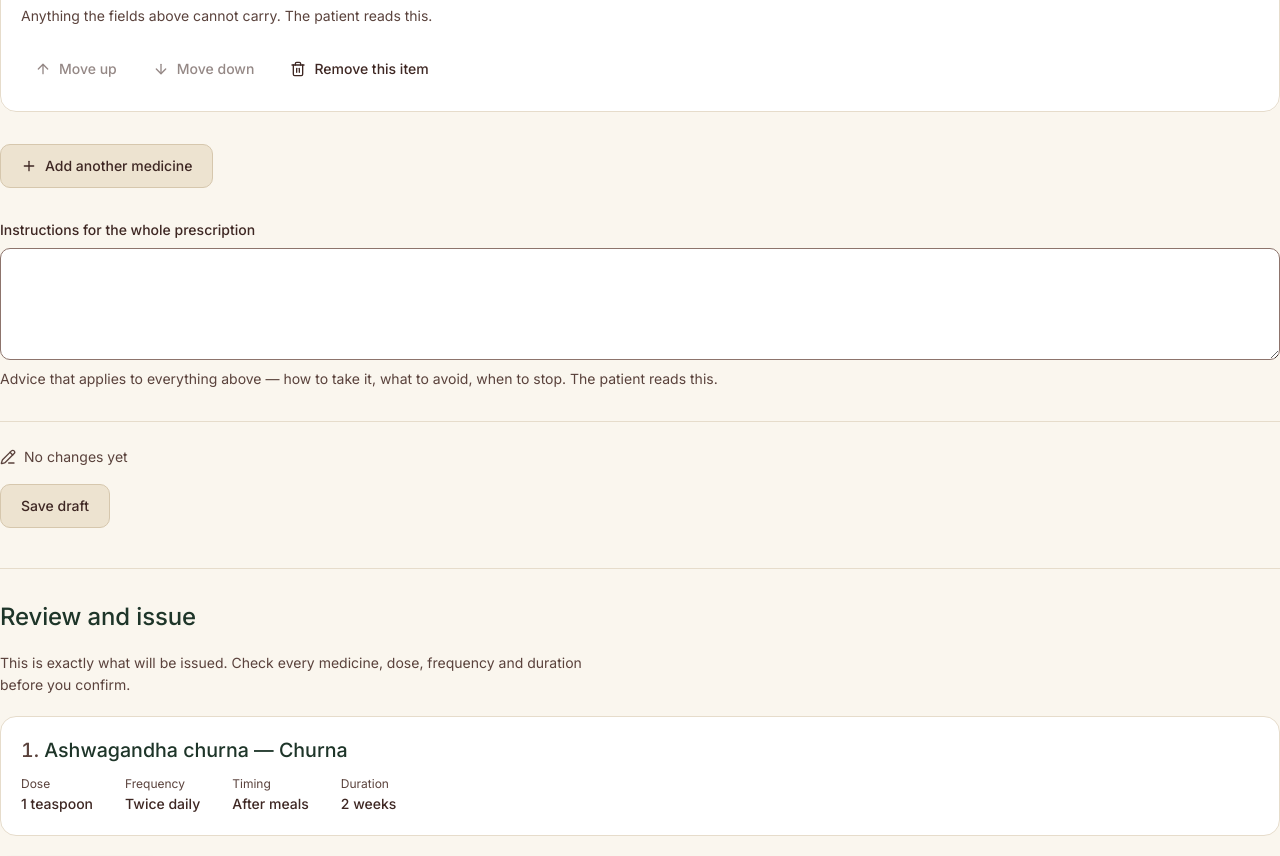
Test case: the save state › stops offering to save after a conflict, and asks for a reload
(page scrolled)
Click the button "Save draft" at point(55, 506), box [0,484,110,528]
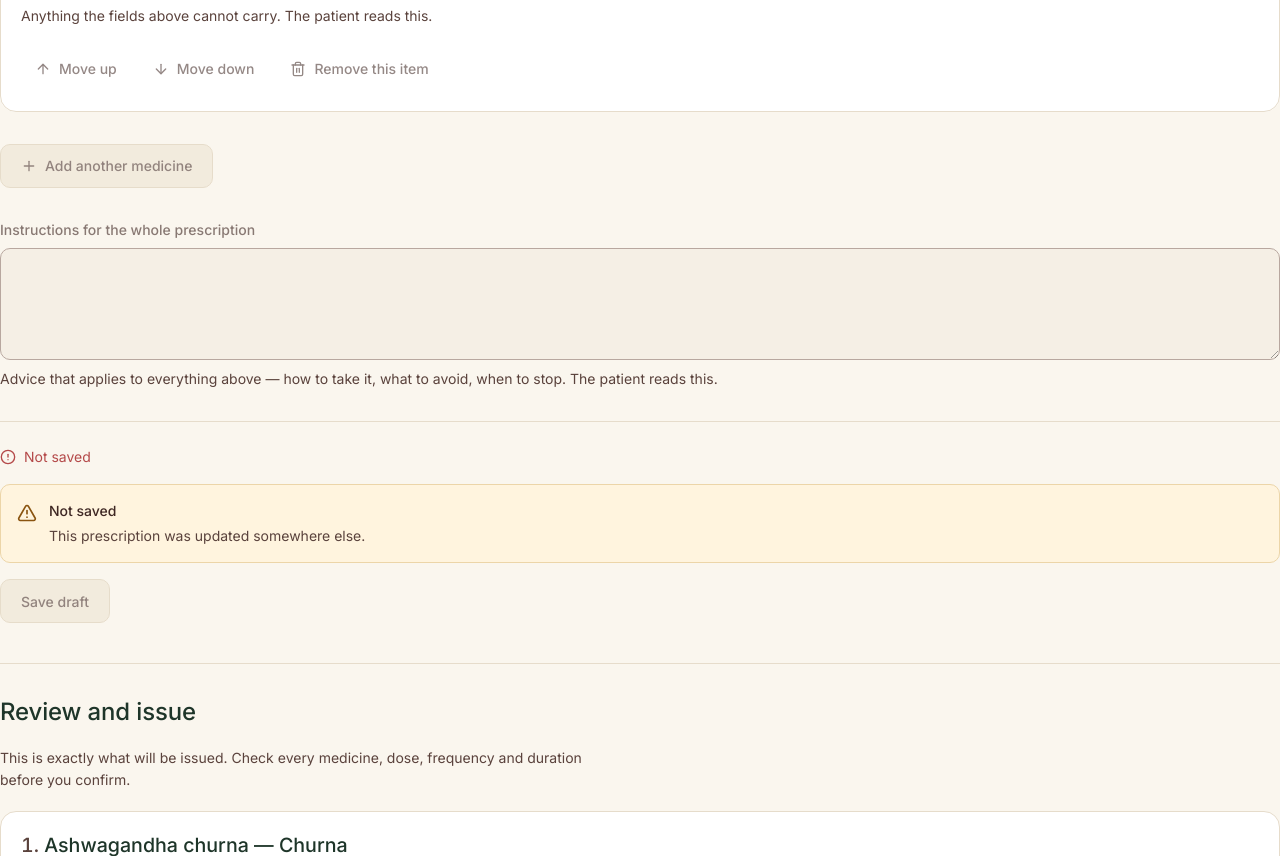
Check: the button "Save draft" is disabled, box [0,579,110,623]
Check: the text "This prescription was updated somewhere else." is shown, box [49,525,365,546]
